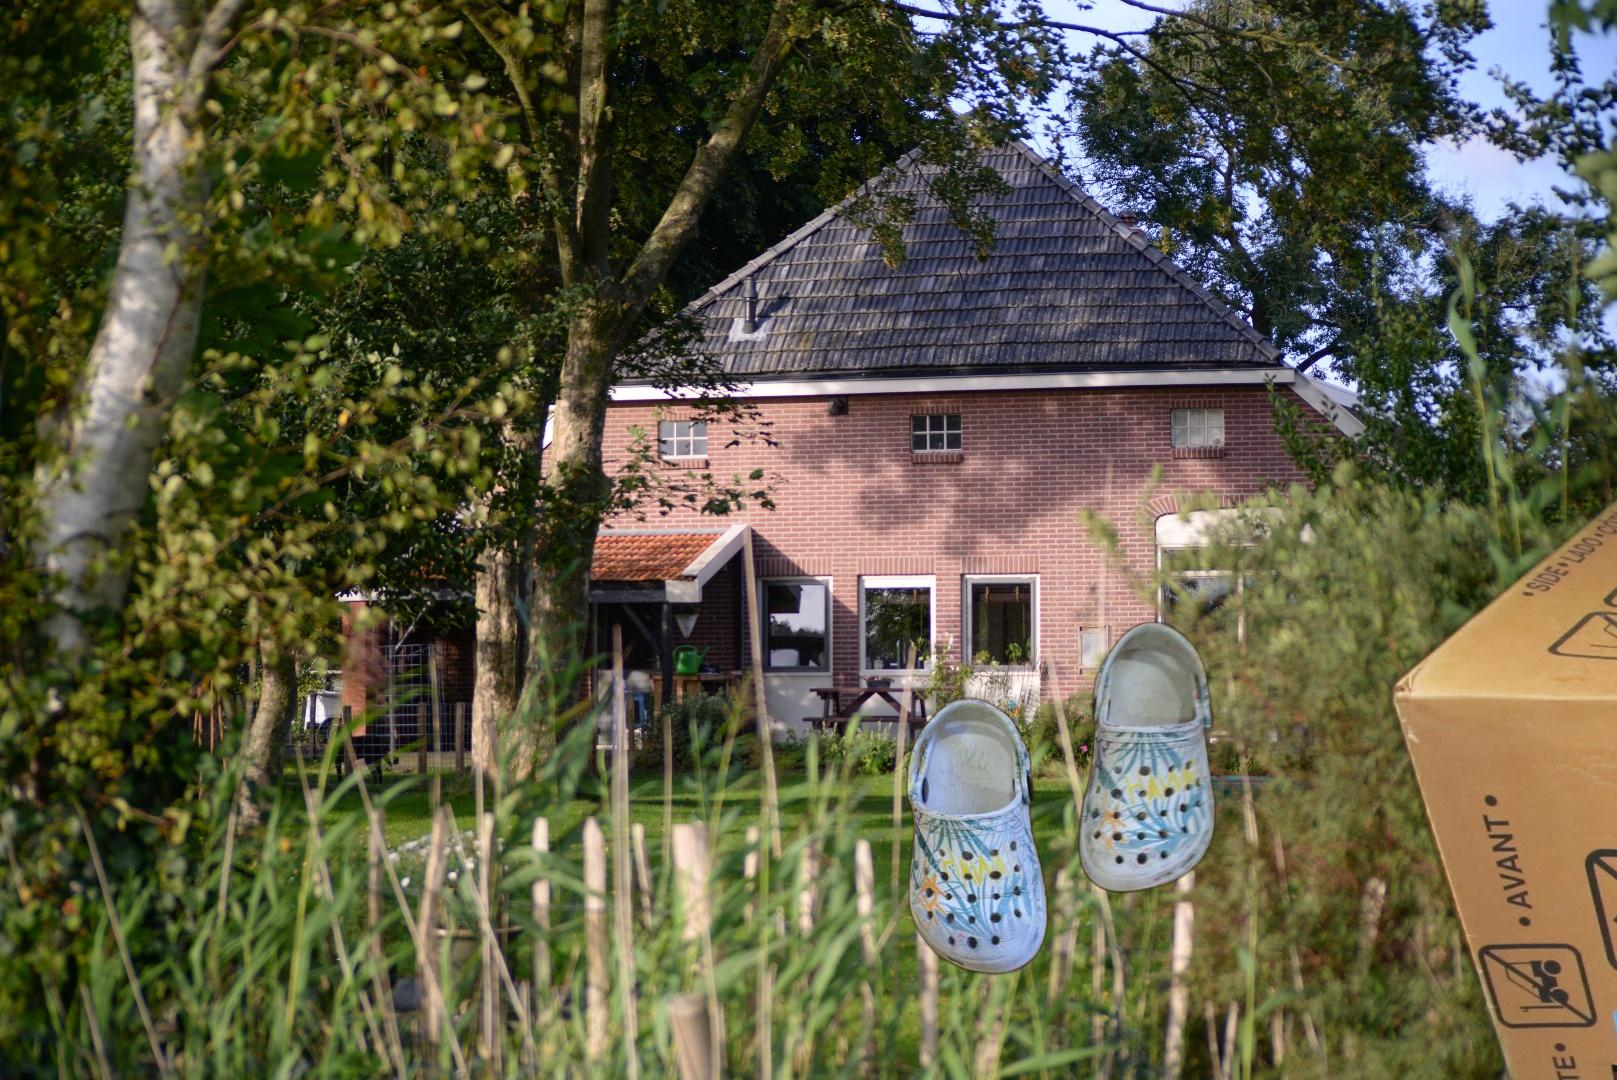glass: (510, 839, 1022, 1080)
penholder: (570, 1053, 1016, 1080)
shoes: (904, 617, 1219, 979)
trashbox-cardboard: (807, 495, 1617, 1080), (1378, 442, 1617, 1080)
